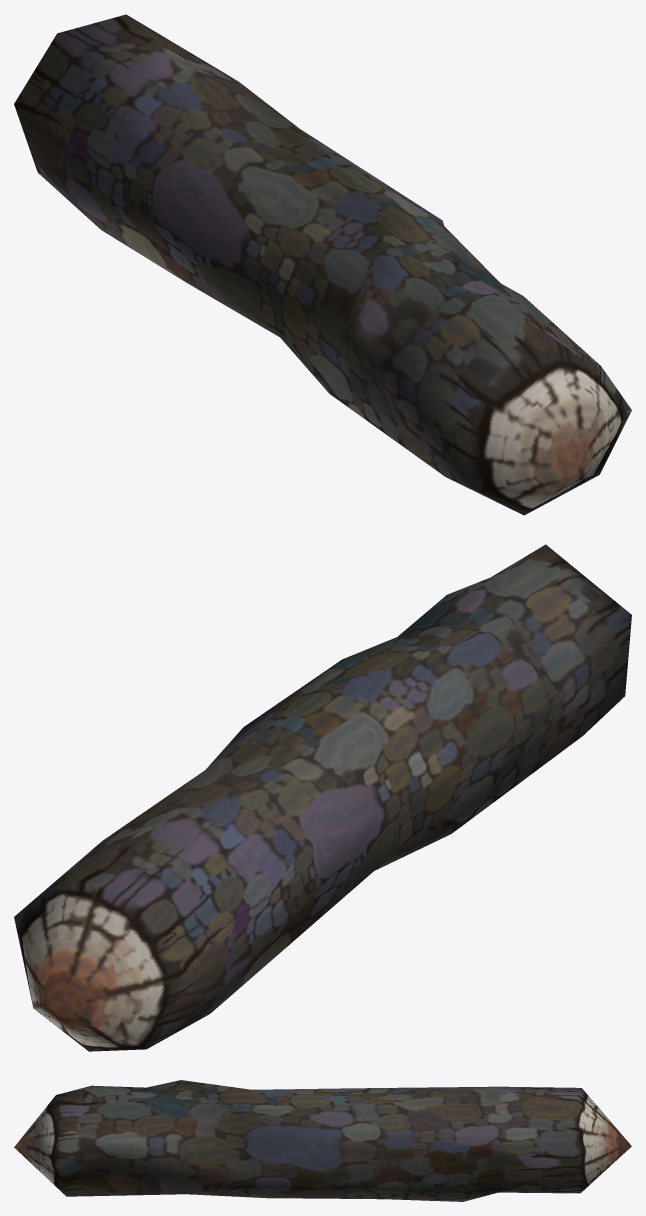
The model's file is wood_log_2.fbx.
The picture shows the model from 3 angles, top to bottom: view 1: azimuth 30°, elevation 25°; view 2: azimuth 150°, elevation 25°; view 3: azimuth 270°, elevation 25°; orthographic projection. The views are drawn at different scales.
Visible parts, largest first — view 1: wood_log_2; view 2: wood_log_2; view 3: wood_log_2.
Boxes of the visible parts, x1,y1,x2,y2 form: wood_log_2: [14, 14, 631, 515]; wood_log_2: [14, 544, 631, 1051]; wood_log_2: [14, 1080, 631, 1201].
Size of the model in its own units: 17.42 by 16.53 by 85.19.
